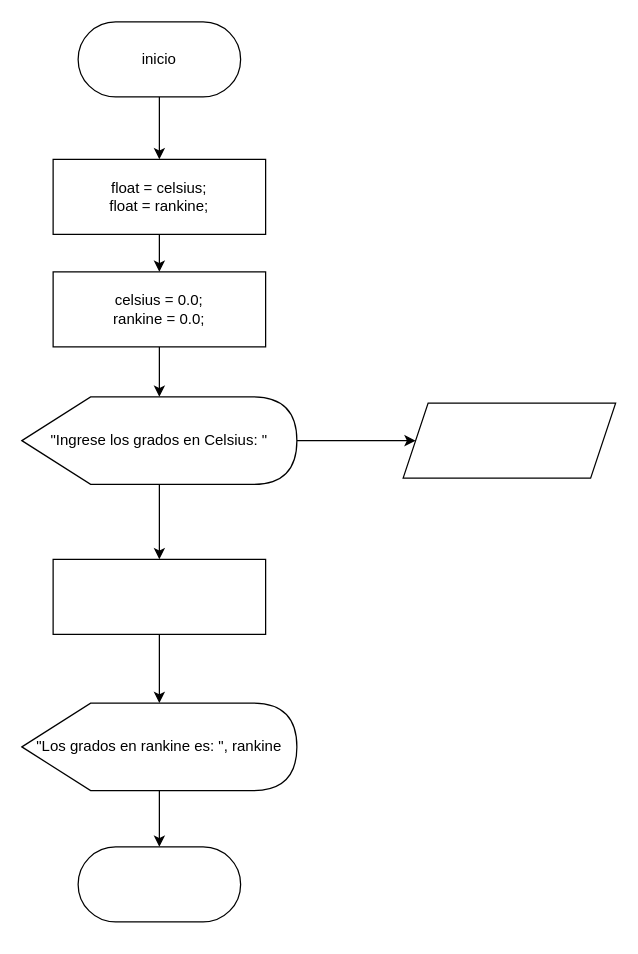
Some shapes in this 638 by 954 pixel diagram are drawn without their labels. Each missing label, with the centre of its shape:
"celsius" belongs at [509,440].
"fin" belongs at [159,884].
"rankine = (celsius * 9) / 5 + 491,67" belongs at [159,596].
